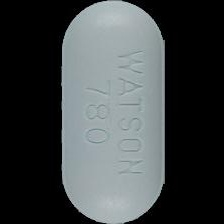55289-292: (0, 0, 224, 224)
